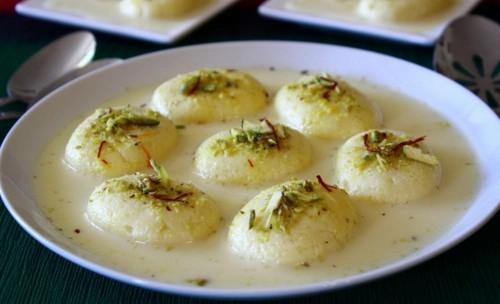RasMalai: (26, 67, 481, 286)
